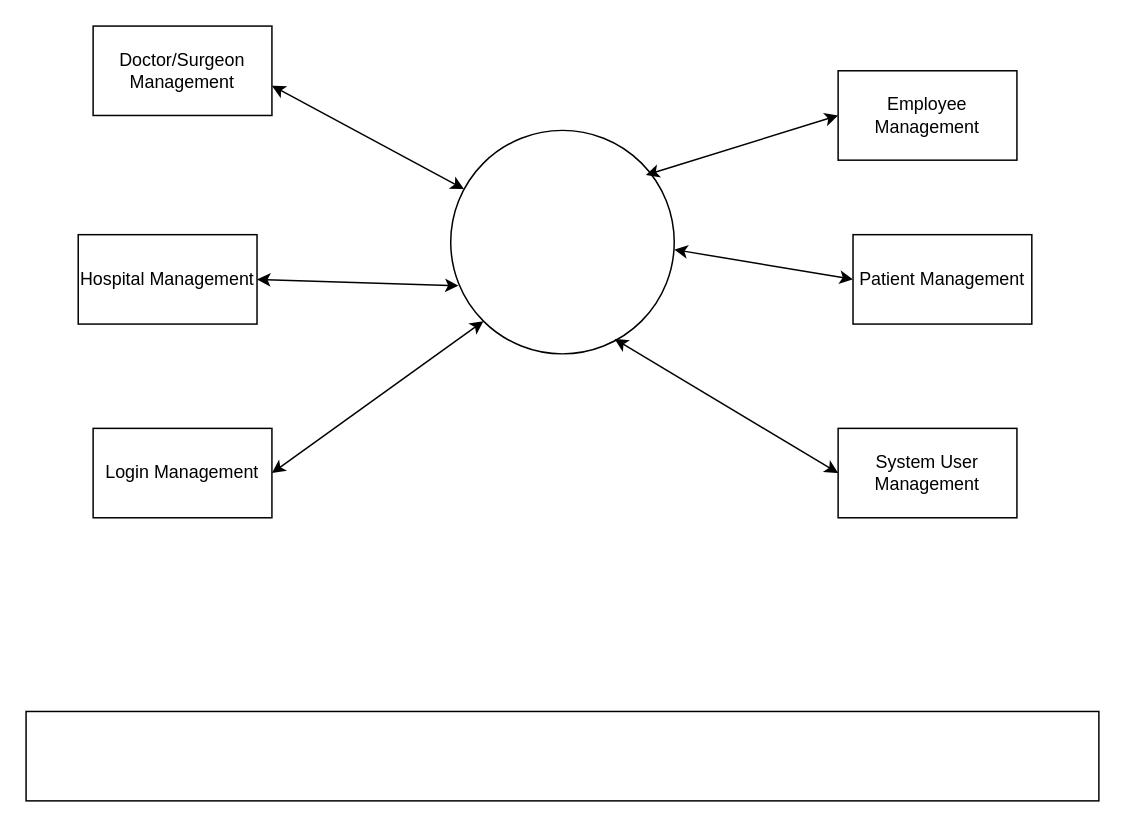
This 1125x827 diagram has some shape labels left out. Here are the shapes that lost their labels. From the top down, the centre of each, then its label:
At (x=561, y=241): "Hospital Management System".
At (x=562, y=755): "0 LEVEL DFD FOR HOSPIWARE".
